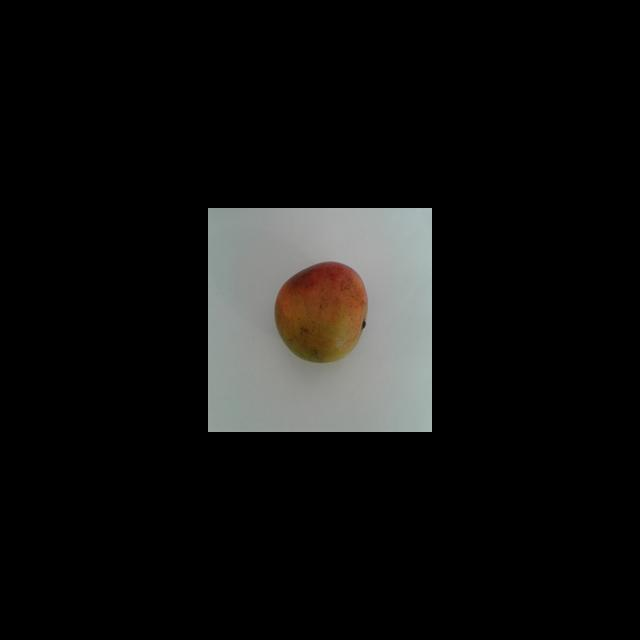Mango: (273, 260, 368, 362)
